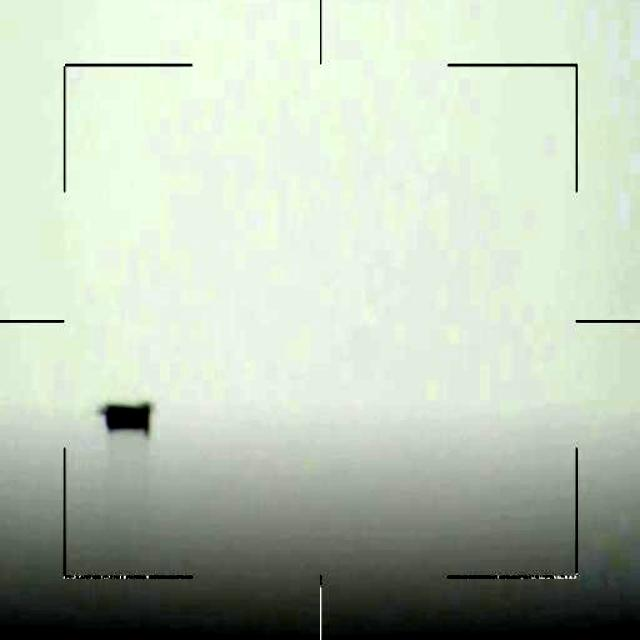bird: (104, 402, 158, 439)
